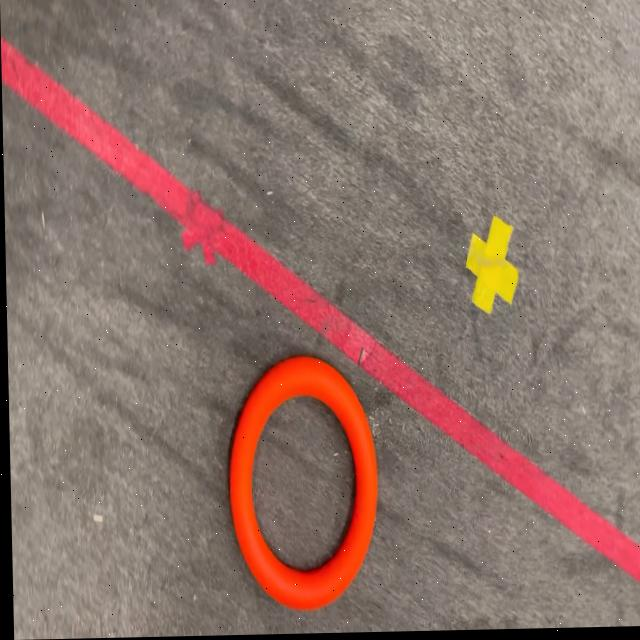note: (225, 356, 378, 612)
